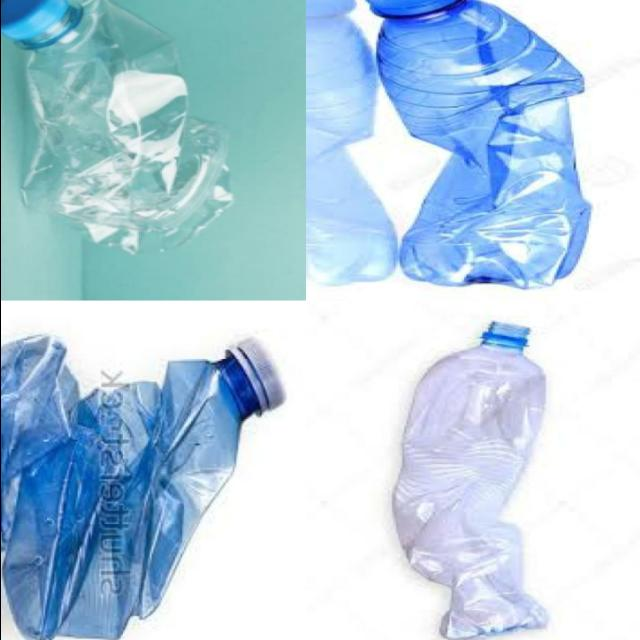plastik: (0, 336, 284, 640), (366, 0, 590, 288), (0, 0, 232, 254), (394, 323, 547, 638)
